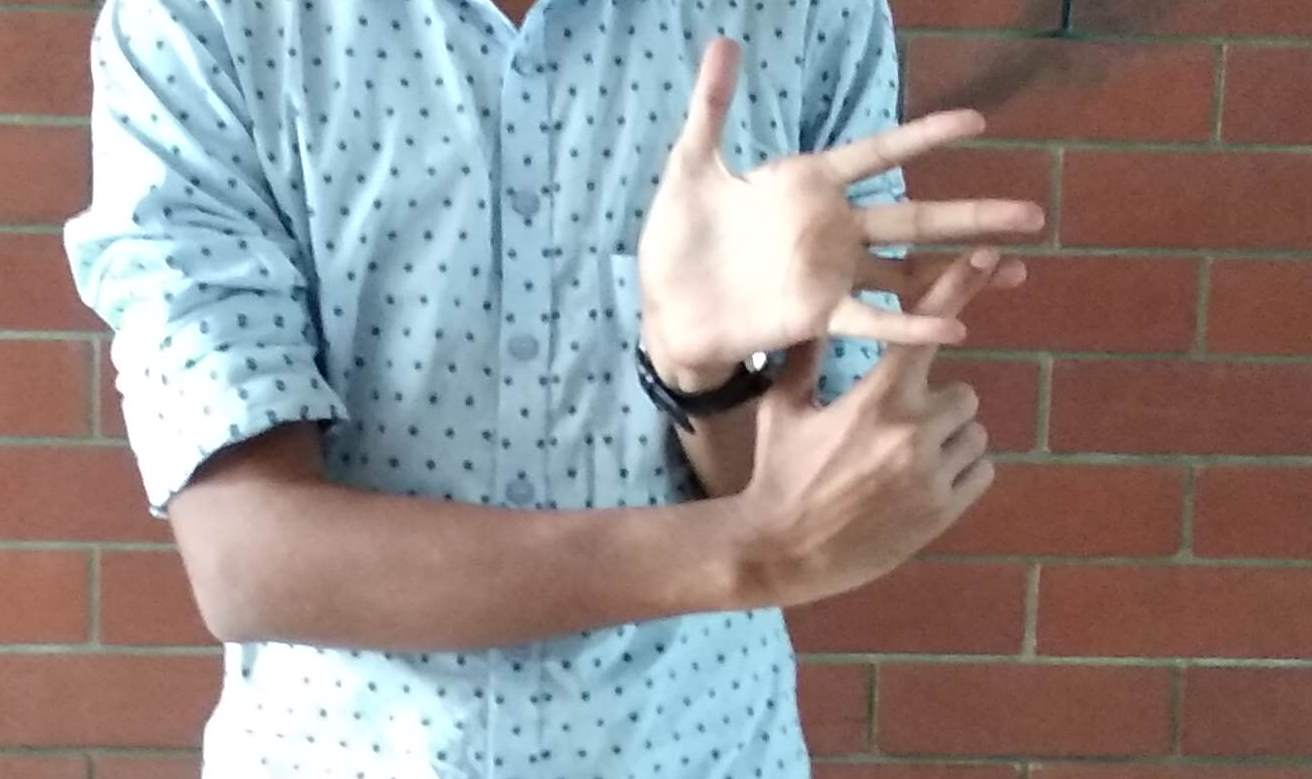e: (688, 91, 1036, 477)
